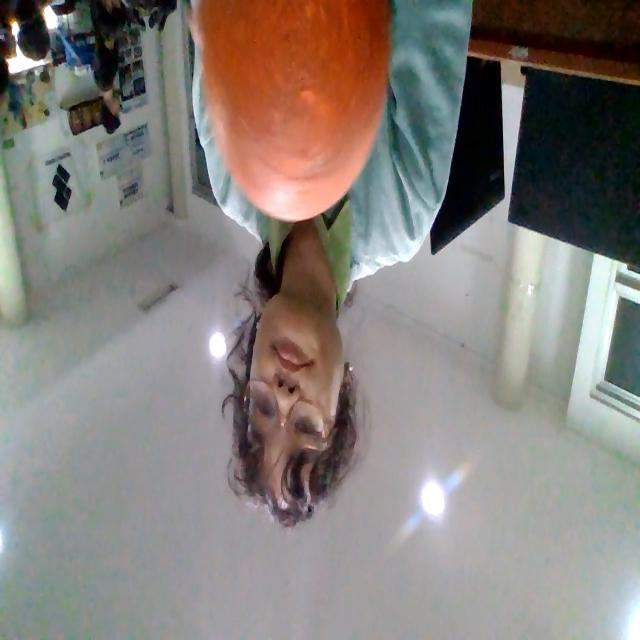ball: (191, 2, 393, 224)
